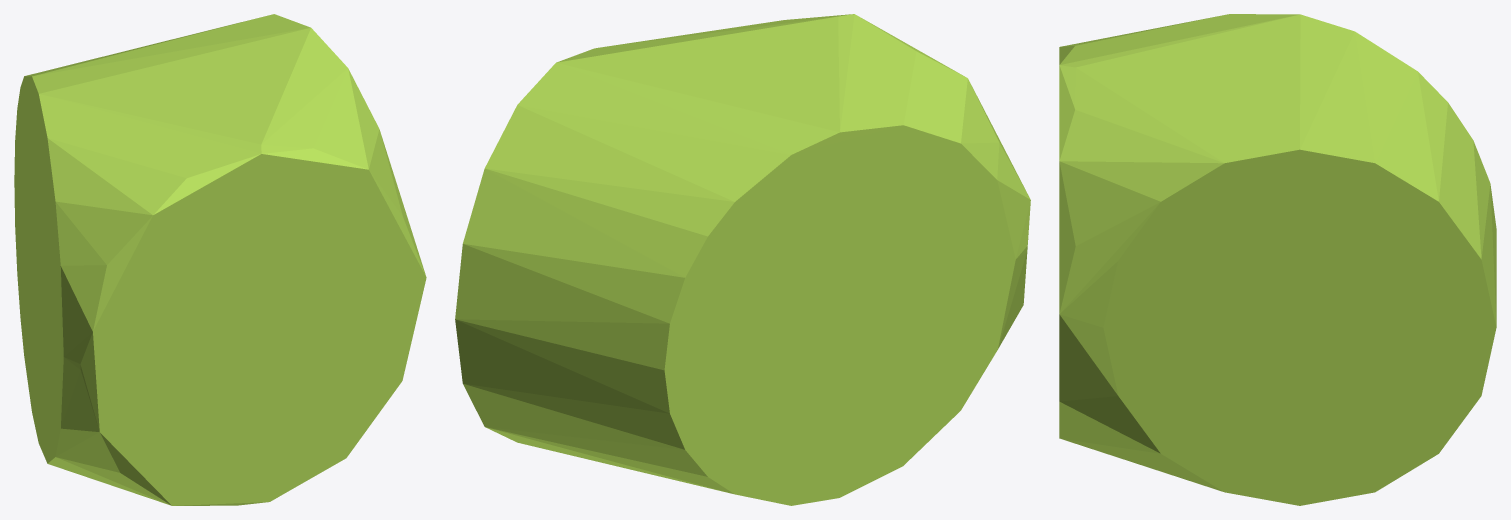
The model's file is industrial_06397_link_2_respondable_respondable_respondable_respondable_respondable_respondable_coll_5.dae.
3 views of the same model, side by side, from view 1: azimuth 30°, elevation 25°; view 2: azimuth 150°, elevation 25°; view 3: azimuth 270°, elevation 25° (orthographic). The views are drawn at different scales.
Parts seen in each view (by area): view 1: node; view 2: node; view 3: node.
Part boxes in pixels (bbox=[...]): node: bbox=[14, 14, 426, 505]; node: bbox=[455, 14, 1030, 505]; node: bbox=[1059, 14, 1496, 505].
Bounding box in the file's own units: 0.1193 × 0.1177 × 0.1289.
